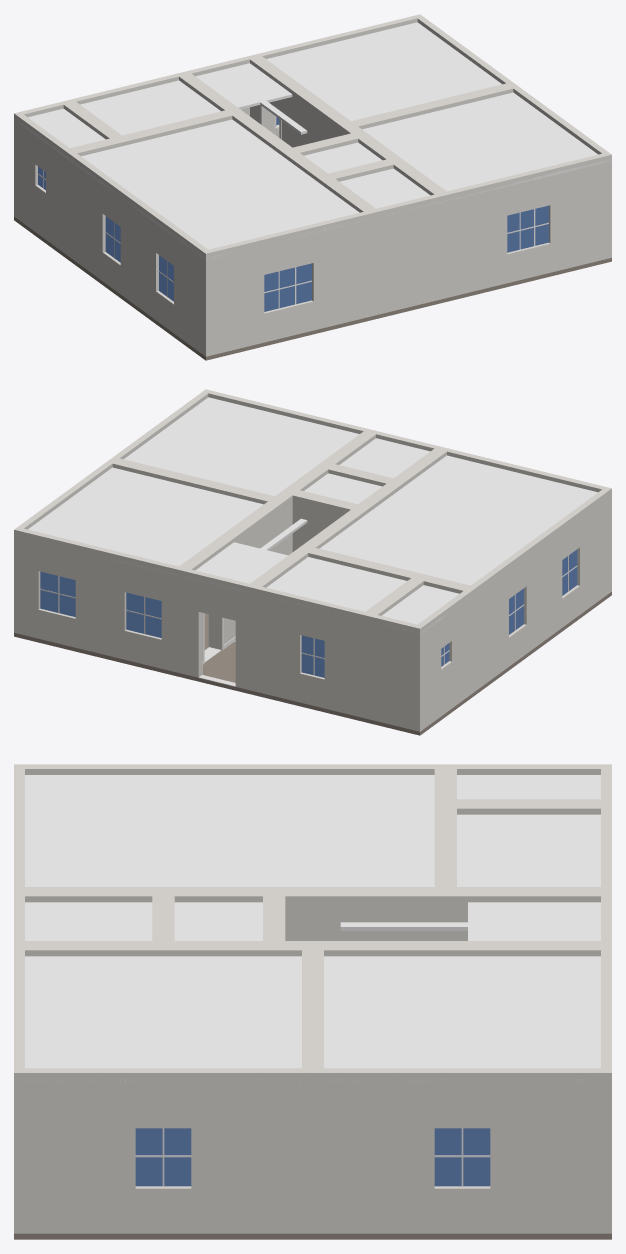
File: interior-ground-v001.glb
3 renders of one model, top to bottom at view 1: azimuth 30°, elevation 25°; view 2: azimuth 150°, elevation 25°; view 3: azimuth 270°, elevation 25°, orthographic. The views are drawn at different scales.
Visible parts, largest first — view 1: interior-ground-v001; view 2: interior-ground-v001; view 3: interior-ground-v001.
Boxes of the visible parts, x1,y1,x2,y2 form: interior-ground-v001: (14, 14, 611, 360); interior-ground-v001: (14, 389, 611, 735); interior-ground-v001: (14, 764, 611, 1239).
Bounding box in the file's own units: 13.2 × 3.32 × 10.8.
